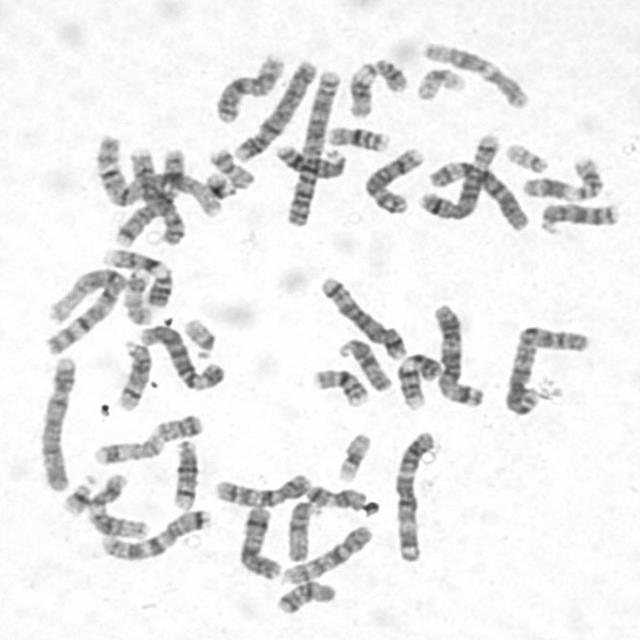A1: (89, 130, 224, 219), (40, 264, 128, 356)
A2: (281, 62, 345, 228), (499, 319, 592, 417)
A3: (389, 425, 439, 564), (429, 298, 487, 408)
B4: (230, 55, 319, 162), (33, 351, 78, 493)
B5: (315, 270, 411, 361), (416, 129, 502, 220)
C10: (278, 519, 376, 586), (211, 469, 314, 508)
C11: (518, 152, 606, 202), (344, 53, 409, 118)
C12: (416, 37, 532, 110), (84, 468, 152, 540)
C6: (425, 155, 533, 232), (135, 319, 227, 392)
C7: (115, 142, 186, 248), (96, 504, 214, 563)
C8: (118, 144, 186, 248), (359, 142, 427, 215)
C9: (96, 245, 173, 308), (392, 345, 445, 412)
D13: (534, 197, 622, 235), (272, 138, 348, 179)
D14: (112, 336, 154, 412), (168, 434, 202, 511)
D15: (334, 332, 395, 393), (283, 495, 325, 563)
E16: (308, 362, 372, 408), (324, 121, 392, 153)
E17: (88, 430, 166, 466), (120, 266, 154, 326)
E18: (272, 576, 338, 616), (302, 480, 368, 511)
F19: (332, 427, 374, 483), (412, 62, 469, 102)
F20: (204, 143, 257, 189), (151, 410, 205, 442)
G21: (58, 470, 98, 517), (202, 168, 238, 200)
G22: (179, 313, 218, 360), (501, 138, 551, 174)
X: (210, 49, 286, 125), (235, 501, 285, 580)
